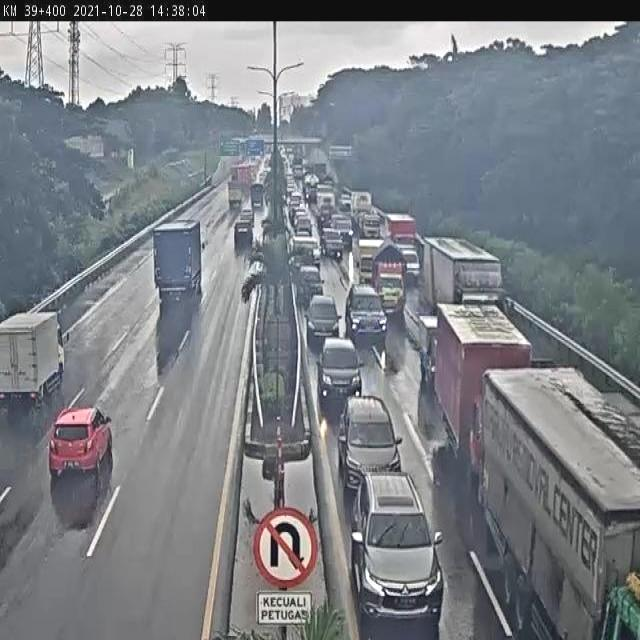Car: (346, 467, 448, 640), (337, 393, 402, 494), (44, 400, 109, 482), (317, 336, 363, 412), (346, 285, 388, 345), (304, 294, 342, 349), (290, 234, 320, 272), (297, 262, 324, 304), (396, 243, 420, 282), (320, 226, 346, 260), (234, 206, 254, 250), (329, 215, 353, 250), (294, 216, 313, 237), (339, 190, 352, 211)
Truck: (475, 365, 637, 640), (425, 302, 532, 486), (0, 315, 75, 412), (144, 210, 206, 312), (422, 237, 503, 310), (369, 240, 408, 318), (356, 237, 384, 286), (384, 214, 416, 244), (351, 190, 373, 220), (359, 211, 382, 239), (316, 188, 336, 215), (228, 183, 244, 210), (250, 182, 265, 210), (247, 137, 264, 158), (231, 137, 247, 157)
